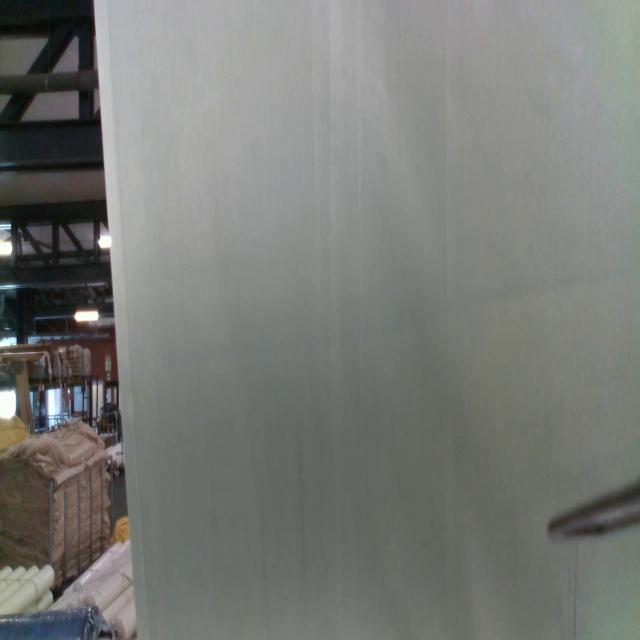color bleeding: (159, 238, 640, 377)
